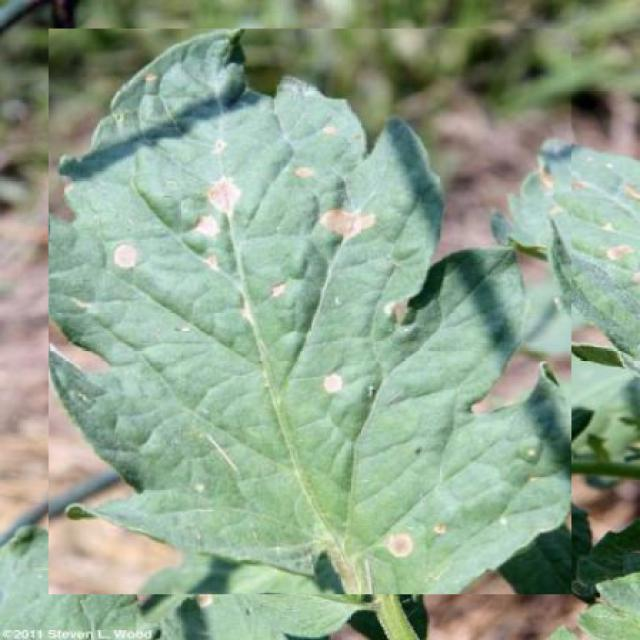Early Blight: (49, 28, 572, 595)
